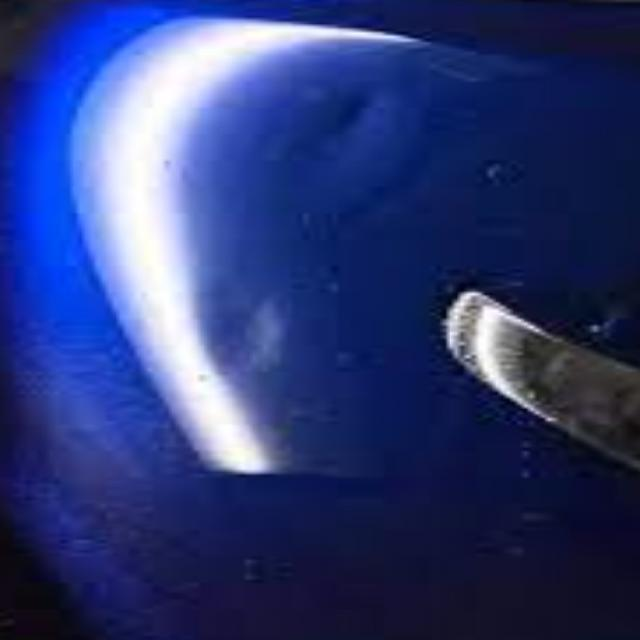dents: (291, 80, 449, 210), (172, 272, 330, 398)
